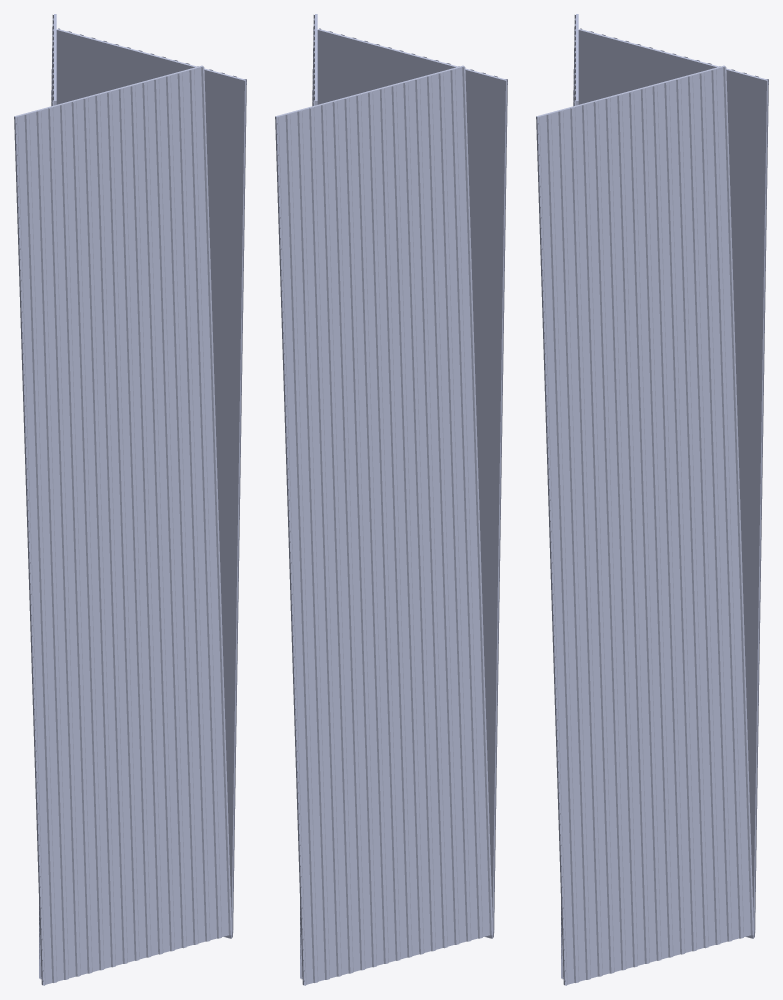
File: 20210605_Sheet-metal_column_7400-1600.gltf
3 renders of one model, left to right at view 1: azimuth 30°, elevation 25°; view 2: azimuth 150°, elevation 25°; view 3: azimuth 270°, elevation 25°, orthographic.
Visible parts, largest first — view 1: color; view 2: color; view 3: color.
Boxes of the visible parts, x1=… form: color: x1=14, y1=14, x2=246, y2=985; color: x1=275, y1=14, x2=507, y2=985; color: x1=536, y1=14, x2=768, y2=985.
Bounding box in the file's own units: 1.9 × 7.44 × 1.8.
